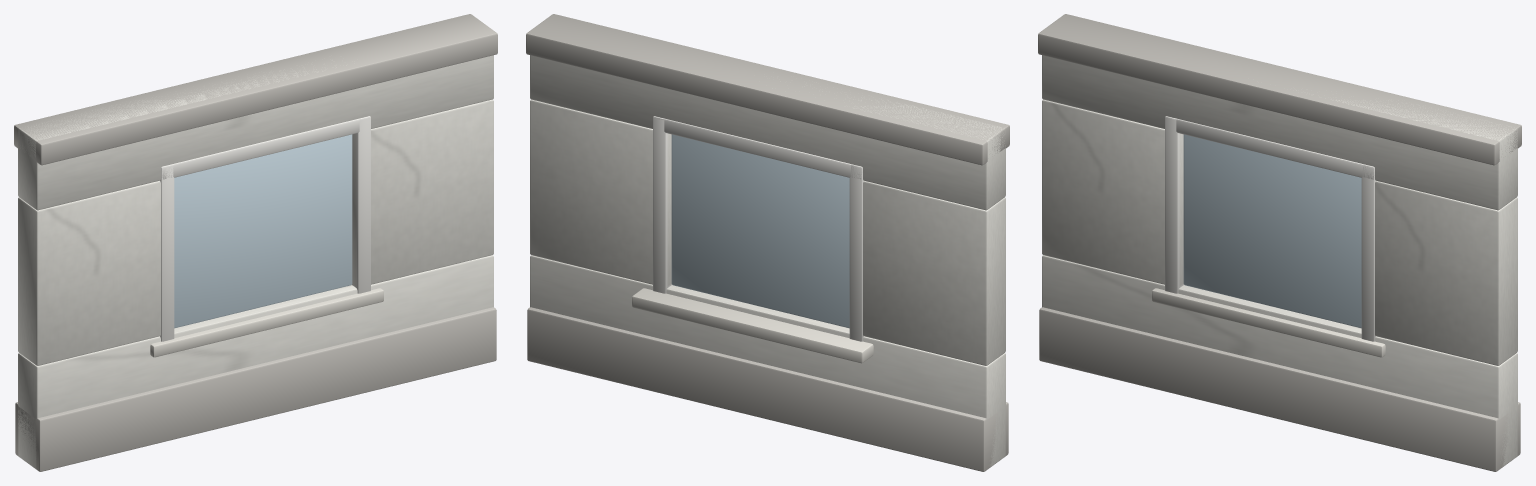
The model's file is th34_wand_fenster.glb.
3 views of the same model, side by side, from view 1: azimuth 30°, elevation 25°; view 2: azimuth 150°, elevation 25°; view 3: azimuth 330°, elevation 25° (orthographic).
Visible parts, largest first — view 1: Cube.004, Cube.011, Cube, Cube.002, Cube.012, Cube.001, Cube.003, Cube.008, Cube.007, Cube.006, Cube.005; view 2: Cube.004, Cube.011, Cube.002, Cube.012, Cube, Cube.003, Cube.001, Cube.008, Cube.007, Cube.006, Cube.005; view 3: Cube.004, Cube.011, Cube, Cube.003, Cube.012, Cube.001, Cube.002, Cube.008, Cube.007, Cube.005, Cube.006.
Part boxes in pixels (x1,y1,x2,y2): Cube.004: [174, 134, 352, 328]; Cube.011: [15, 307, 496, 471]; Cube: [18, 255, 493, 468]; Cube.002: [18, 180, 160, 365]; Cube.012: [14, 14, 497, 165]; Cube.001: [18, 55, 493, 210]; Cube.003: [352, 99, 493, 285]; Cube.008: [150, 288, 383, 357]; Cube.007: [161, 118, 369, 179]; Cube.006: [352, 116, 370, 293]; Cube.005: [160, 164, 174, 341]; Cube.004: [671, 134, 849, 328]; Cube.011: [527, 307, 1008, 471]; Cube.002: [863, 180, 1005, 365]; Cube.012: [526, 14, 1009, 165]; Cube: [530, 255, 1005, 466]; Cube.003: [530, 99, 671, 285]; Cube.001: [530, 55, 1005, 210]; Cube.008: [632, 288, 873, 363]; Cube.007: [653, 116, 862, 179]; Cube.006: [653, 116, 671, 293]; Cube.005: [849, 164, 863, 341]; Cube.004: [1183, 134, 1361, 328]; Cube.011: [1039, 307, 1520, 471]; Cube: [1042, 255, 1517, 468]; Cube.003: [1375, 180, 1517, 365]; Cube.012: [1038, 14, 1521, 165]; Cube.001: [1042, 55, 1517, 210]; Cube.002: [1042, 99, 1183, 285]; Cube.008: [1152, 288, 1385, 357]; Cube.007: [1166, 116, 1374, 179]; Cube.005: [1165, 116, 1183, 293]; Cube.006: [1361, 164, 1375, 341].
Bounding box in the file's own units: 4 × 2.75 × 0.53.
Materials: 5 (1 with a texture image).
